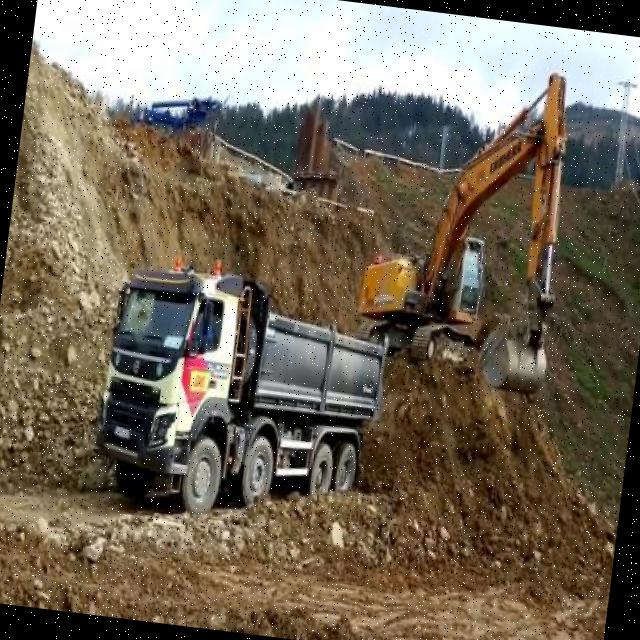Dump Truck: (83, 238, 400, 548)
Excavator: (322, 45, 612, 406)
